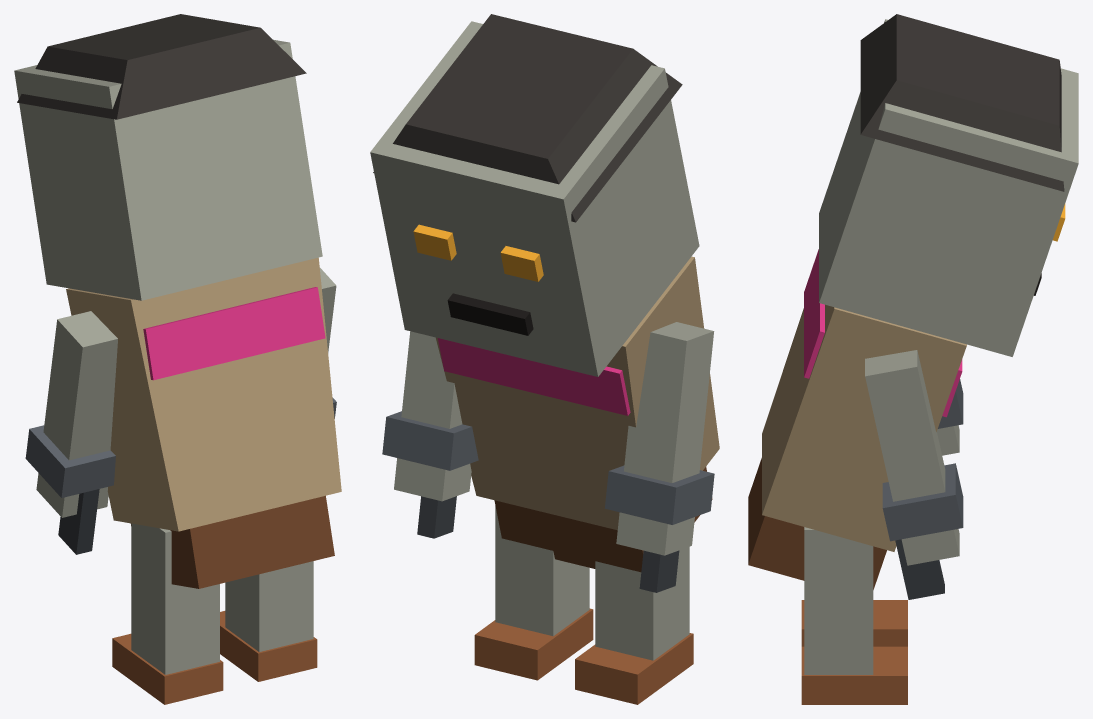
Rendered from EN_Convict.fbx.
3 renders of one model, left to right at view 1: azimuth 30°, elevation 25°; view 2: azimuth 150°, elevation 25°; view 3: azimuth 270°, elevation 25°, orthographic. The views are drawn at different scales.
Visible parts, largest first — view 1: Head, Body, Hair, Loincloth, ArmL, LegL, Rag, LegR, FootL, ShackleL, FootR, LinkL1 (+2 smaller); view 2: Head, Hair, Body, ArmL, LegL, LegR, ArmR, Rag, Loincloth, FootR, FootL, ShackleL (+6 smaller); view 3: Head, Body, Hair, ArmR, LegR, FootR, Loincloth, ShackleR, Rag, FootL, LinkR1, ShackleL (+1 smaller).
Part boxes in pixels (bbox=[...]): Head: bbox=[14, 39, 322, 300]; Body: bbox=[66, 257, 341, 531]; Hair: bbox=[17, 14, 306, 119]; Loincloth: bbox=[130, 495, 334, 588]; ArmL: bbox=[36, 311, 117, 517]; LegL: bbox=[131, 523, 219, 674]; Rag: bbox=[143, 287, 325, 380]; LegR: bbox=[225, 561, 313, 651]; FootL: bbox=[112, 633, 223, 704]; ShackleL: bbox=[25, 425, 115, 497]; FootR: bbox=[220, 611, 317, 681]; LinkL1: bbox=[58, 515, 95, 554]; Head: bbox=[370, 21, 699, 376]; Hair: bbox=[373, 14, 682, 222]; Body: bbox=[436, 256, 719, 530]; ArmL: bbox=[616, 322, 714, 555]; LegL: bbox=[595, 546, 689, 660]; LegR: bbox=[495, 506, 589, 636]; ArmR: bbox=[394, 331, 471, 501]; Rag: bbox=[437, 338, 630, 415]; Loincloth: bbox=[494, 466, 712, 572]; FootR: bbox=[474, 608, 593, 680]; FootL: bbox=[575, 633, 693, 704]; ShackleL: bbox=[604, 465, 714, 524]; Head: bbox=[819, 19, 1078, 356]; Body: bbox=[762, 304, 966, 551]; Hair: bbox=[860, 14, 1064, 191]; ArmR: bbox=[865, 350, 959, 565]; LegR: bbox=[804, 527, 873, 674]; FootR: bbox=[801, 646, 907, 704]; Loincloth: bbox=[748, 458, 886, 589]; ShackleR: bbox=[882, 463, 963, 541]; Rag: bbox=[804, 249, 962, 417]; FootL: bbox=[801, 600, 907, 646]; LinkR1: bbox=[900, 560, 944, 599]; ShackleL: bbox=[938, 379, 963, 428].
Bounding box in the file's own units: 0.6 × 0.6203 × 1.28.
